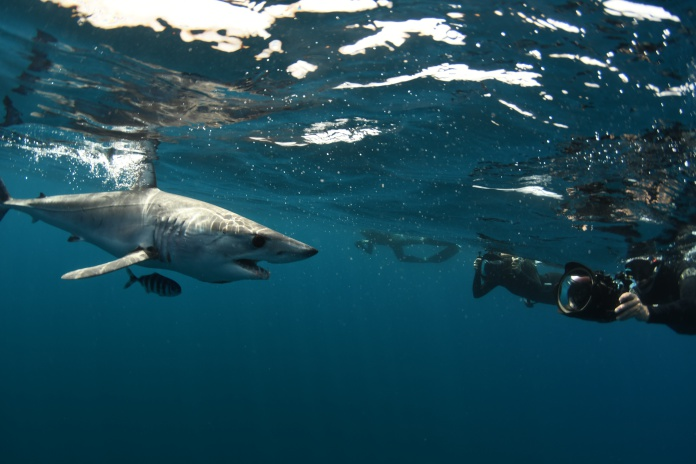Mako: (1, 159, 327, 308)
